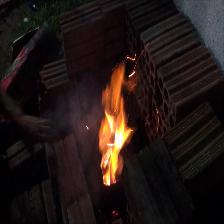fire: (98, 62, 132, 186)
